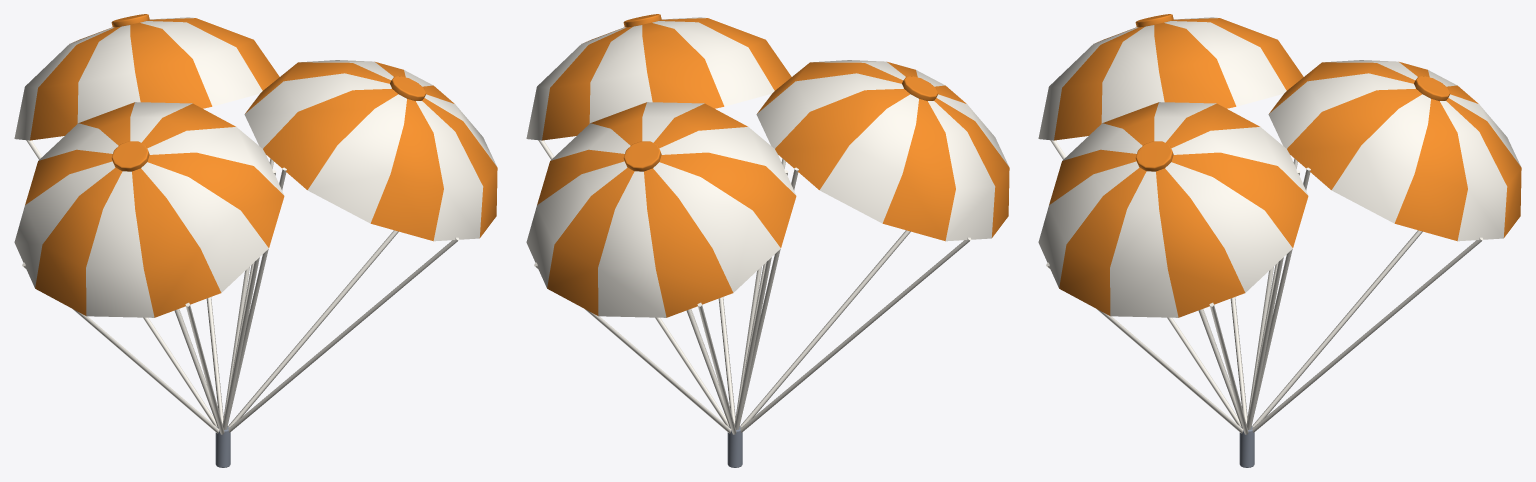
File: Fx_Parachute.fbx
3 views of the same model, side by side, from view 1: azimuth 30°, elevation 25°; view 2: azimuth 150°, elevation 25°; view 3: azimuth 270°, elevation 25° (orthographic).
Parts seen in each view (by area): view 1: Fx_Parachute.Canopy_2, Fx_Parachute.Canopy_3, Fx_Parachute.Canopy_1, Fx_Parachute.Lines_3, Fx_Parachute.Lines_2, Fx_Parachute.Lines_1, Fx_Parachute.Vent_2, Fx_Parachute.Vent_3, Fx_Parachute.Riser; view 2: Fx_Parachute.Canopy_1, Fx_Parachute.Canopy_2, Fx_Parachute.Canopy_3, Fx_Parachute.Lines_2, Fx_Parachute.Lines_1, Fx_Parachute.Lines_3, Fx_Parachute.Vent_1, Fx_Parachute.Vent_2, Fx_Parachute.Riser; view 3: Fx_Parachute.Canopy_3, Fx_Parachute.Canopy_1, Fx_Parachute.Canopy_2, Fx_Parachute.Lines_1, Fx_Parachute.Lines_3, Fx_Parachute.Lines_2, Fx_Parachute.Vent_3, Fx_Parachute.Vent_1, Fx_Parachute.Riser.
Boxes of the visible parts, bbox=[...] form: Fx_Parachute.Canopy_2: bbox=[14, 102, 284, 317]; Fx_Parachute.Canopy_3: bbox=[244, 60, 497, 241]; Fx_Parachute.Canopy_1: bbox=[14, 17, 279, 140]; Fx_Parachute.Lines_3: bbox=[225, 158, 459, 432]; Fx_Parachute.Lines_2: bbox=[22, 170, 276, 434]; Fx_Parachute.Lines_1: bbox=[26, 140, 249, 426]; Fx_Parachute.Vent_2: bbox=[111, 141, 149, 171]; Fx_Parachute.Vent_3: bbox=[390, 76, 426, 100]; Fx_Parachute.Riser: bbox=[215, 426, 230, 467]; Fx_Parachute.Canopy_1: bbox=[526, 102, 796, 317]; Fx_Parachute.Canopy_2: bbox=[756, 60, 1009, 241]; Fx_Parachute.Canopy_3: bbox=[526, 17, 791, 140]; Fx_Parachute.Lines_2: bbox=[737, 158, 971, 432]; Fx_Parachute.Lines_1: bbox=[534, 170, 788, 434]; Fx_Parachute.Lines_3: bbox=[538, 140, 761, 426]; Fx_Parachute.Vent_1: bbox=[623, 141, 661, 171]; Fx_Parachute.Vent_2: bbox=[902, 76, 938, 100]; Fx_Parachute.Riser: bbox=[727, 426, 742, 467]; Fx_Parachute.Canopy_3: bbox=[1038, 102, 1308, 317]; Fx_Parachute.Canopy_1: bbox=[1268, 60, 1521, 241]; Fx_Parachute.Canopy_2: bbox=[1038, 17, 1303, 140]; Fx_Parachute.Lines_1: bbox=[1249, 158, 1483, 432]; Fx_Parachute.Lines_3: bbox=[1046, 170, 1300, 434]; Fx_Parachute.Lines_2: bbox=[1050, 140, 1273, 426]; Fx_Parachute.Vent_3: bbox=[1135, 141, 1173, 171]; Fx_Parachute.Vent_1: bbox=[1414, 76, 1450, 100]; Fx_Parachute.Riser: bbox=[1239, 426, 1254, 467].
Bounding box in the file's own units: 14.88 × 12.53 × 14.
1 material, 1 textured.
